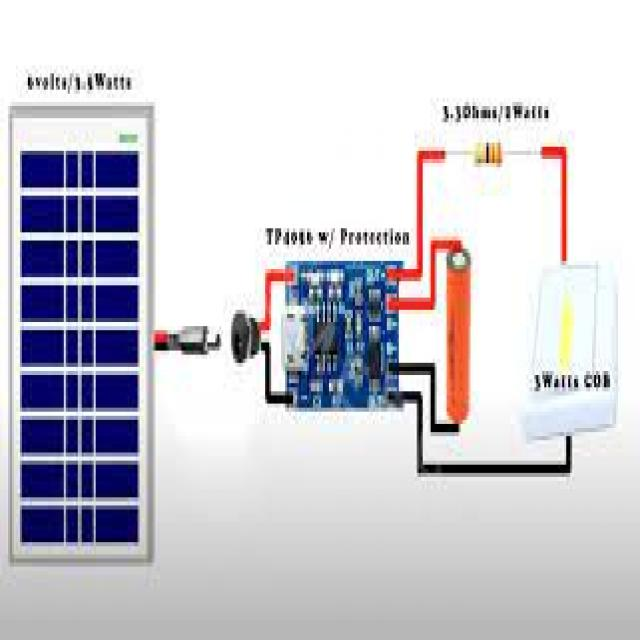no faulty: (20, 133, 144, 550)
